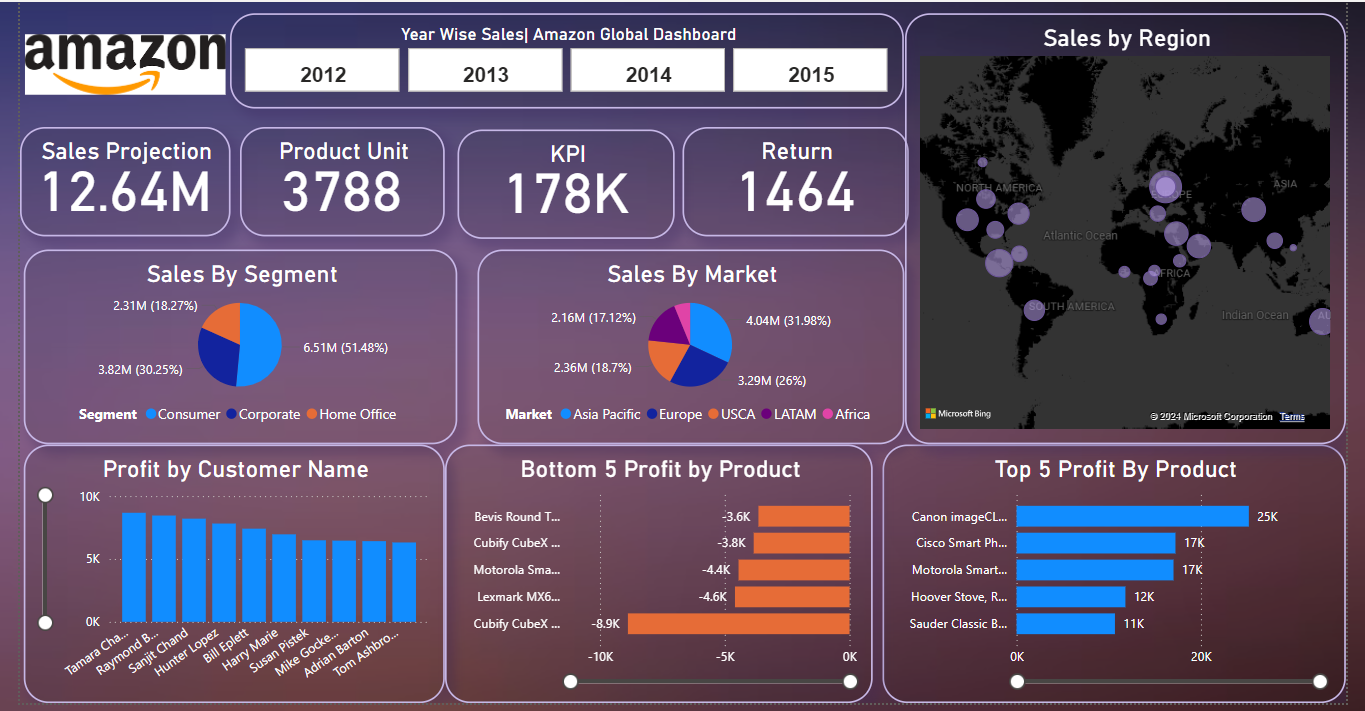

What the dashboard file says about the page in this screenshot:
{"tool":"powerbi","page":{"name":"Dash 2","canvas":[1280,720],"ordinal":1},"visuals":[{"type":"advancedSlicerVisual","title":"Year Wise Sales| Amazon Global Dashboard","fields":{"Values":["Orders.Year"]},"box":[203.9,31.4,650.3,92.9],"z":0},{"type":"card","title":"Sales Projection","fields":{"Values":["Orders.Sales"]},"box":[0,152,202.7,106.2],"z":1000},{"type":"card","title":"Product Unit","fields":{"Values":["Orders.Product Name"]},"box":[213.5,152,197.9,106.2],"z":2000},{"type":"image","box":[3.6,0,202.7,153.2],"z":3000},{"type":"card","title":"KPI","fields":{"Values":["Orders.Quantity"]},"box":[424.7,153.2,209.9,105],"z":4000},{"type":"card","title":"Return","fields":{"Values":["Orders.Ship Date"]},"box":[639.4,153.2,218.4,106.2],"z":5000},{"type":"pieChart","title":"Sales By Segment","fields":{"Y":["Orders.Sales"],"Category":["Orders.Segment"]},"box":[0,265.4,418.6,188.2],"z":6000},{"type":"pieChart","title":"Sales By Market","fields":{"Y":["Orders.Sales"],"Category":["Orders.Market"]},"box":[428.3,265.4,411.4,188.2],"z":7000},{"type":"clusteredBarChart","title":"Top 5 Profit By Product","fields":{"Category":["Orders.Product Name"],"Y":["Orders.Profit"]},"box":[824,453.6,447.6,258.2],"z":8000},{"type":"columnChart","title":"Profit by Customer Name","fields":{"Category":["Orders.Customer Name"],"Y":["Orders.Profit"]},"box":[0,453.6,406.6,258.2],"z":9000},{"type":"clusteredBarChart","title":"Bottom 5  Profit by Product ","fields":{"Y":["Orders.Profit"],"Category":["Orders.Product Name"]},"box":[411.4,453.6,412.6,258.2],"z":10000},{"type":"map","title":" Sales by Region","fields":{"Category":["Orders.Region"],"Size":["Orders.Sales"]},"box":[853,31.4,425.9,416.2],"z":11000}]}

Visuals, with their boxes on the page's 1280x720 design canvas (x1, y1, x2, y2). These are canvas units, not pixel positions in the 1365x711 screenshot, which may show the page scaled, cropped or inside an application window:
"Year Wise Sales| Amazon Global Dashboard" advancedSlicerVisual: 204,31,854,124
"Sales Projection" card: 0,152,203,258
"Product Unit" card: 214,152,411,258
image: 4,0,206,153
"KPI" card: 425,153,635,258
"Return" card: 639,153,858,259
"Sales By Segment" pieChart: 0,265,419,454
"Sales By Market" pieChart: 428,265,840,454
"Top 5 Profit By Product" clusteredBarChart: 824,454,1272,712
"Profit by Customer Name" columnChart: 0,454,407,712
"Bottom 5  Profit by Product " clusteredBarChart: 411,454,824,712
" Sales by Region" map: 853,31,1279,448
